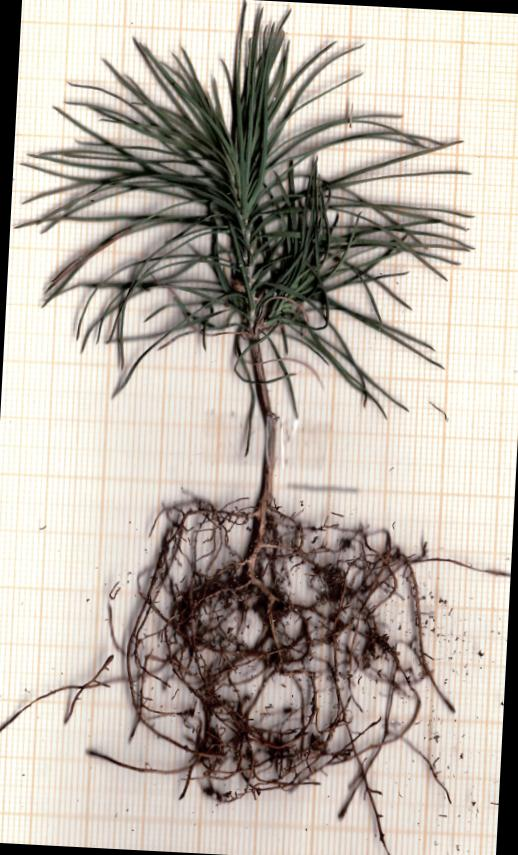flower: (17, 6, 470, 409)
root: (64, 500, 452, 849)
stem: (252, 344, 278, 501)
